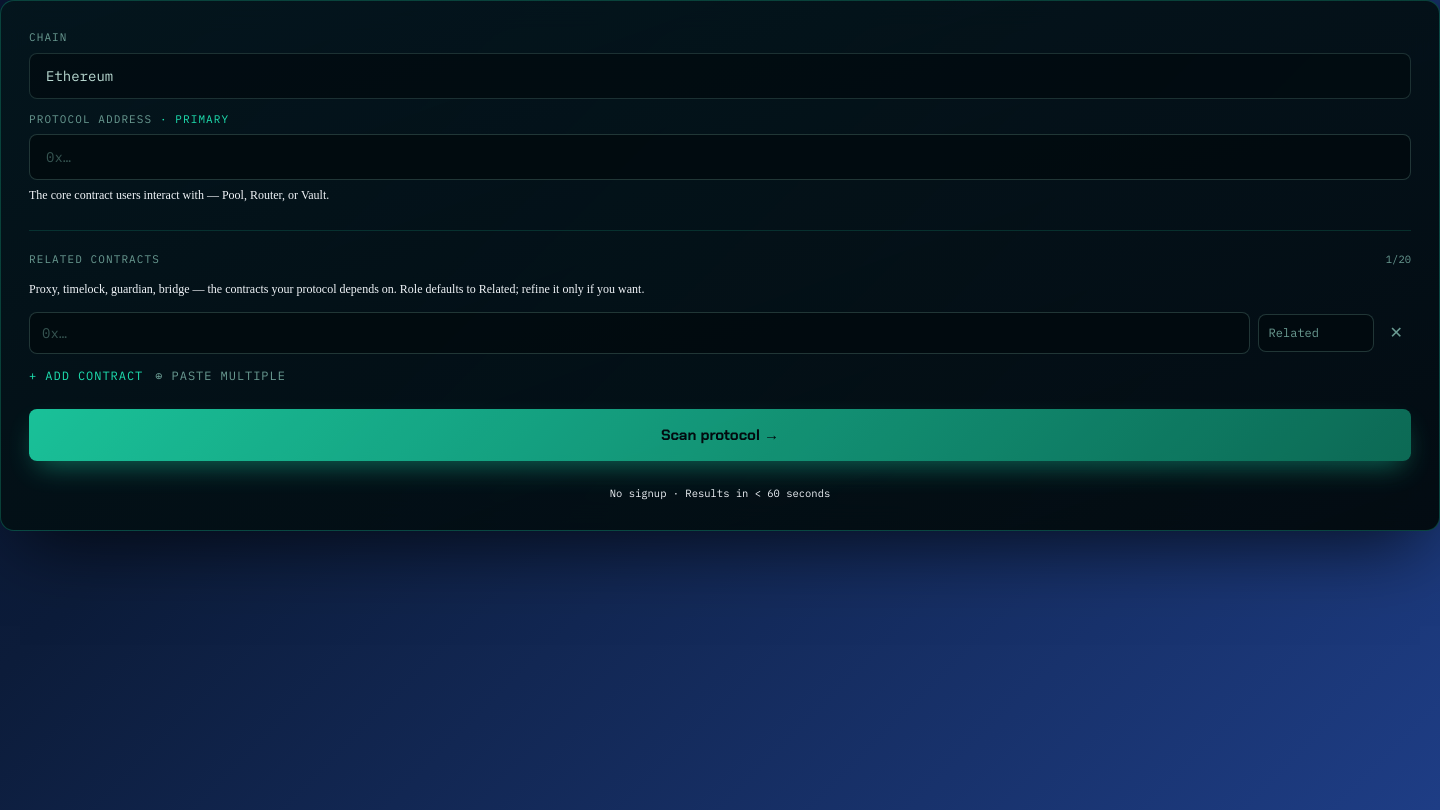
Scenario: MultiContractForm — validation + interaction › disables the scan button until a valid primary address is entered
This screenshot has width=1440, height=810.
Check: the button "Scan protocol →" is disabled, box [29, 409, 1411, 461]
Type "0xnope" into the field labelled "Protocol address · primary" at (720,157), box [29, 134, 1411, 180]
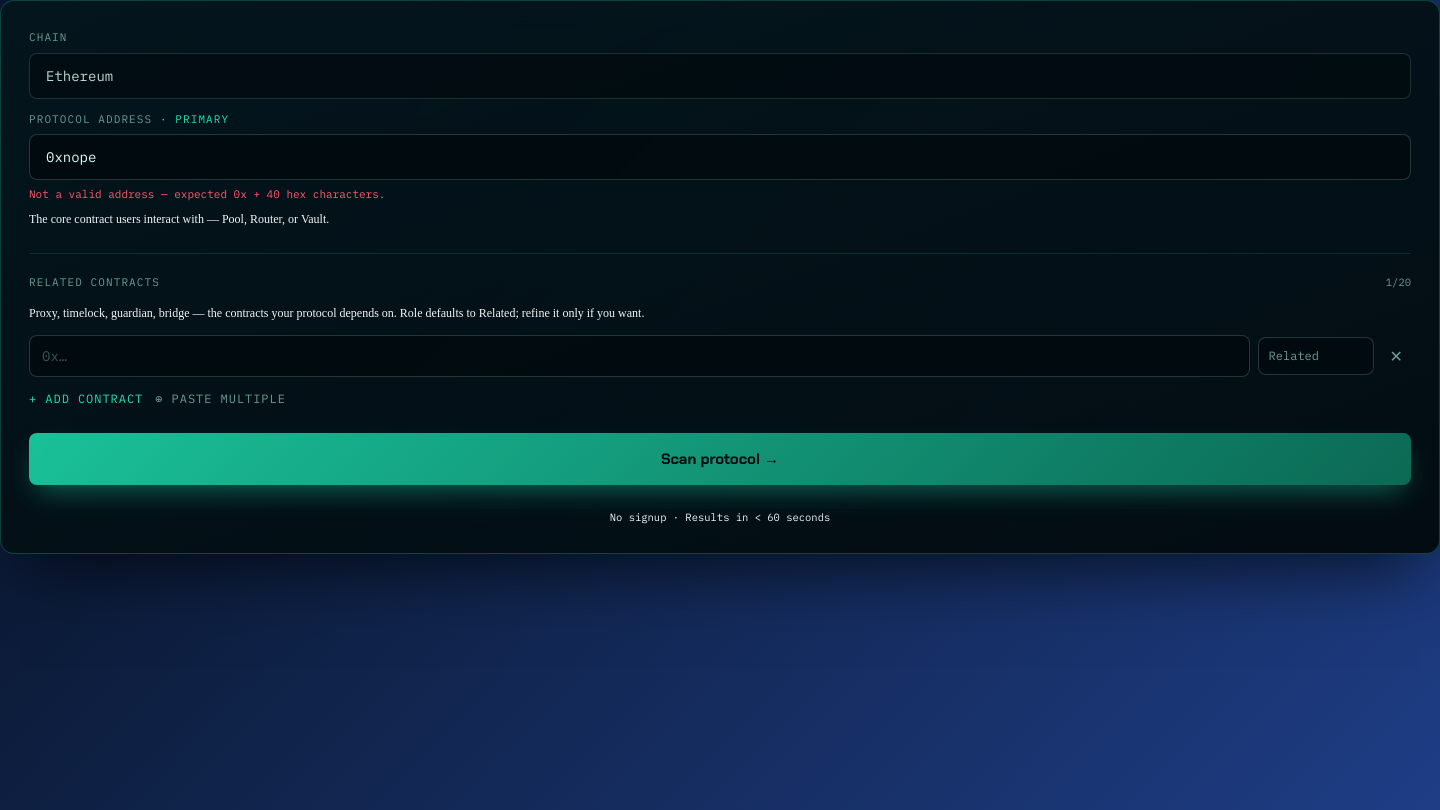
Check: the button "Scan protocol →" is disabled, box [29, 433, 1411, 485]
Check: the text "Not a valid address — expected 0x + 40 hex characters." is shown, box [29, 187, 385, 201]
Replace the text in the field labelled "Protocol address · primary" with "0x1111111111111111111111111111111111111111" at (720,157), box [29, 134, 1411, 180]
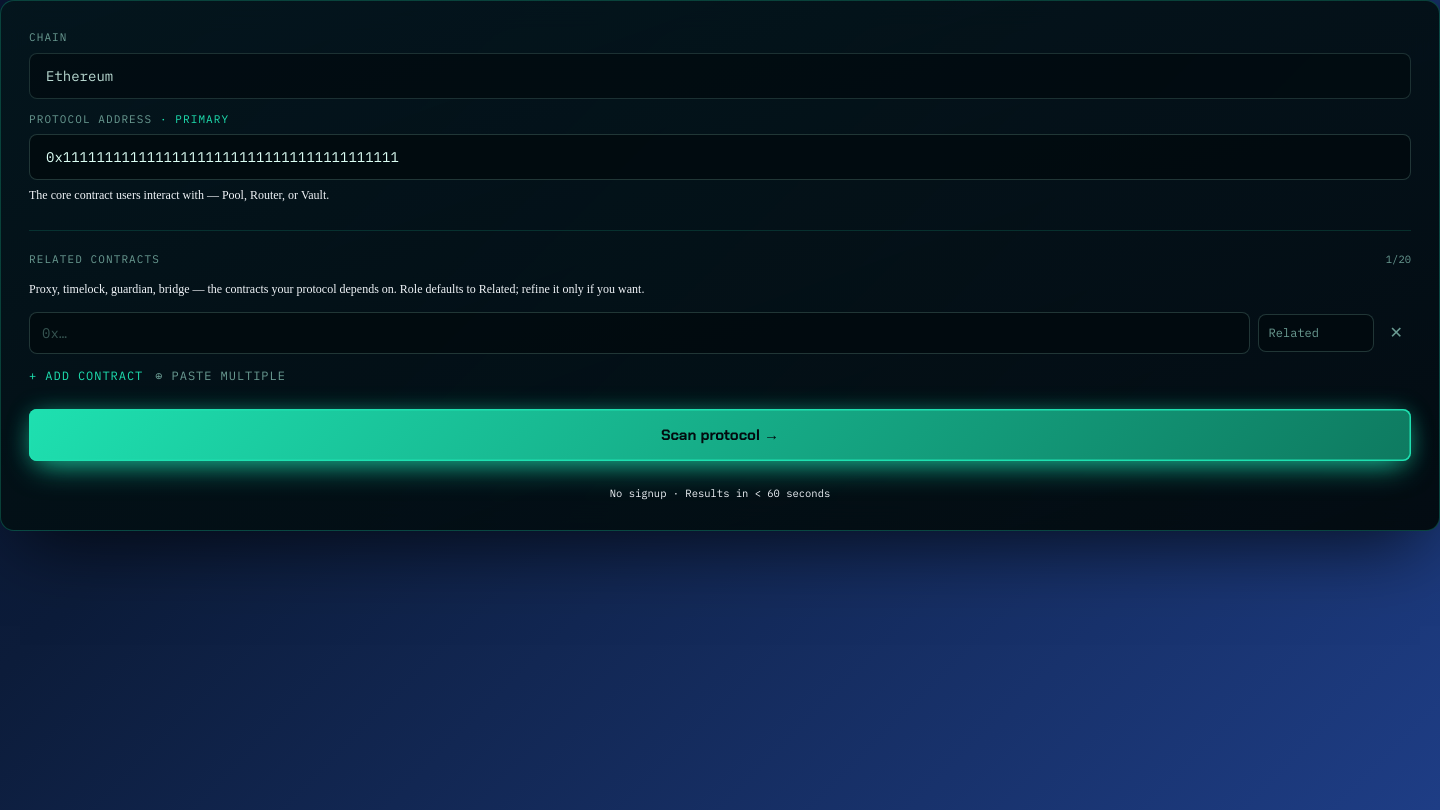
Check: the button "Scan protocol →" is enabled, box [29, 409, 1411, 461]
